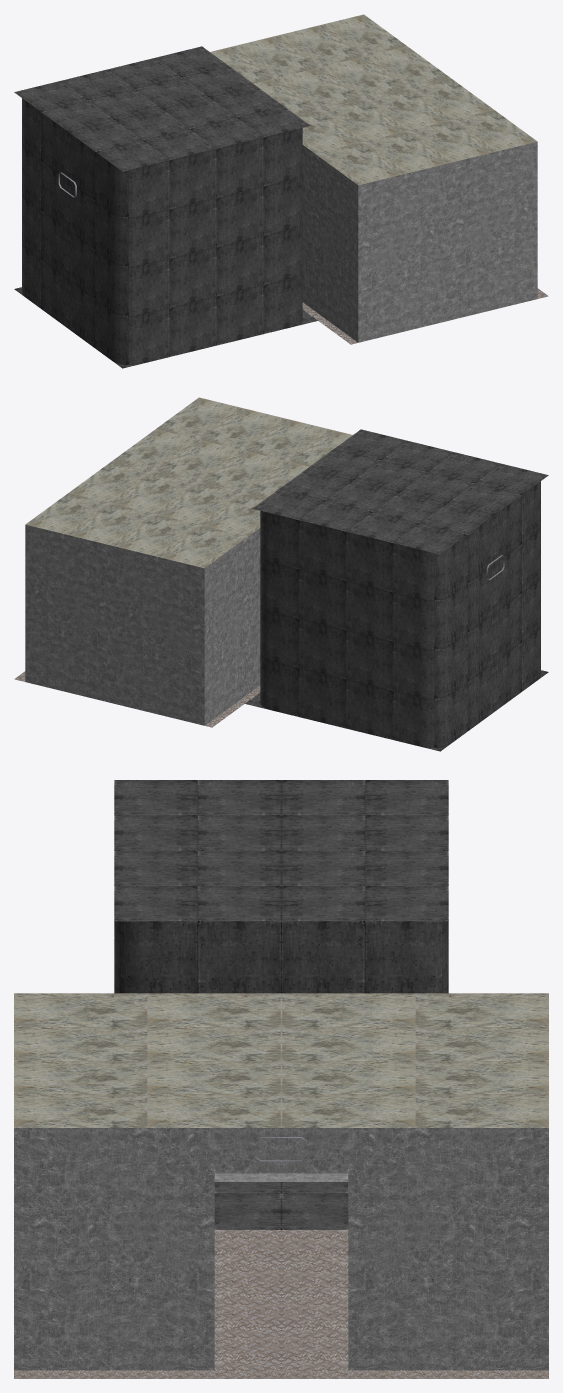
Rendered from SCPSL096Room.fbx.
3 renders of one model, top to bottom at view 1: azimuth 30°, elevation 25°; view 2: azimuth 150°, elevation 25°; view 3: azimuth 270°, elevation 25°, orthographic. The views are drawn at different scales.
Parts seen in each view (by area): view 1: Cube; view 2: Cube; view 3: Cube.
Part boxes in pixels (<box>): Cube: <box>14,14,548,368</box>; Cube: <box>14,397,548,751</box>; Cube: <box>14,780,548,1378</box>.
Size of the model in its own units: 10.51 by 5 by 8.
